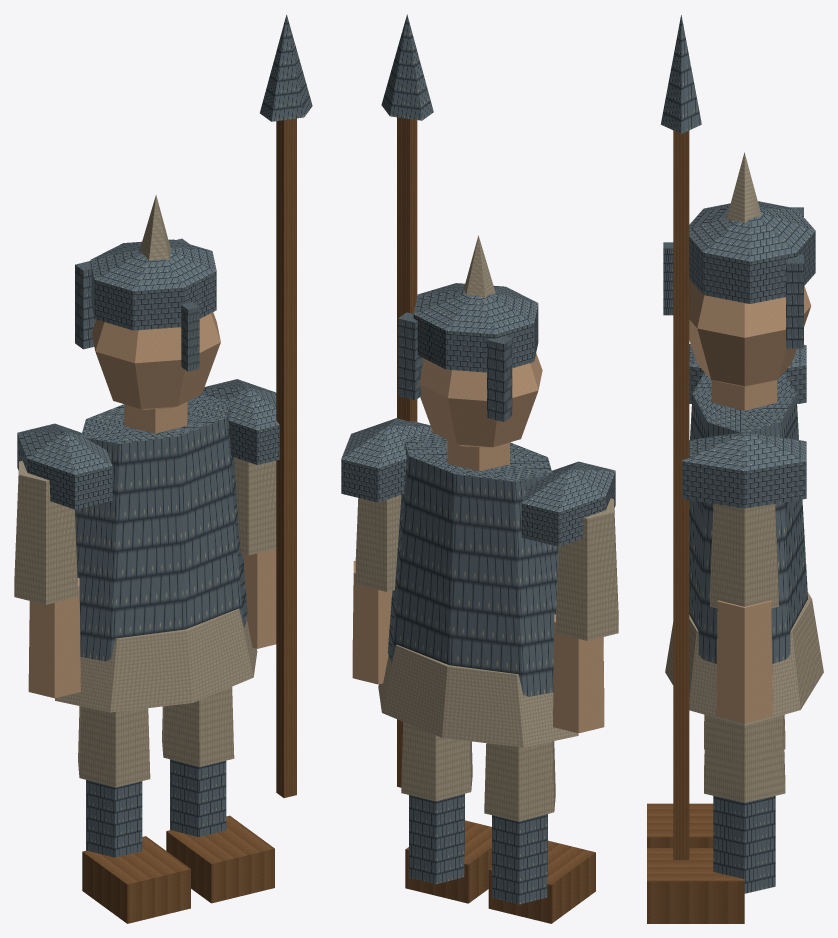
The model's file is unit-SPEAR-lod1.glb.
The picture shows the model from 3 angles, left to right: view 1: azimuth 30°, elevation 25°; view 2: azimuth 150°, elevation 25°; view 3: azimuth 270°, elevation 25°; orthographic projection. The views are drawn at different scales.
Bounding box in the file's own units: 0.187 × 0.565 × 0.098.
1 material, 1 textured.
